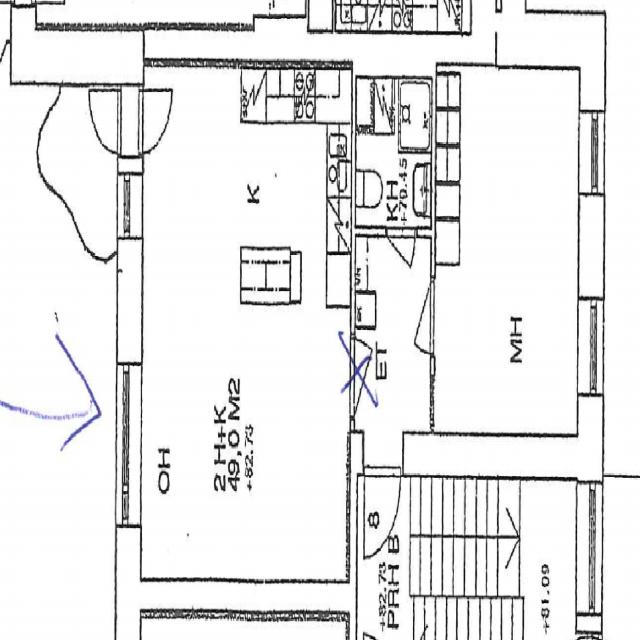door: (364, 434, 400, 562), (89, 90, 144, 154), (118, 90, 172, 154), (397, 280, 436, 354), (386, 226, 415, 300)
